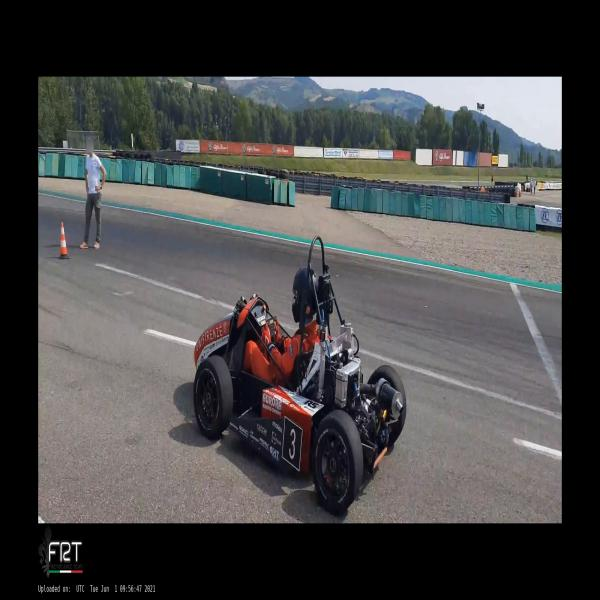large_orange_cone: (58, 222, 70, 259)
